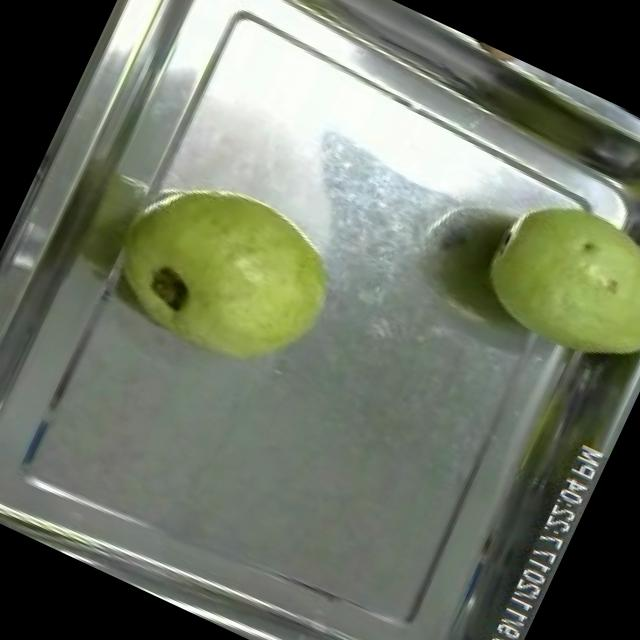Fruit: (86, 144, 371, 408), (455, 162, 640, 393)
